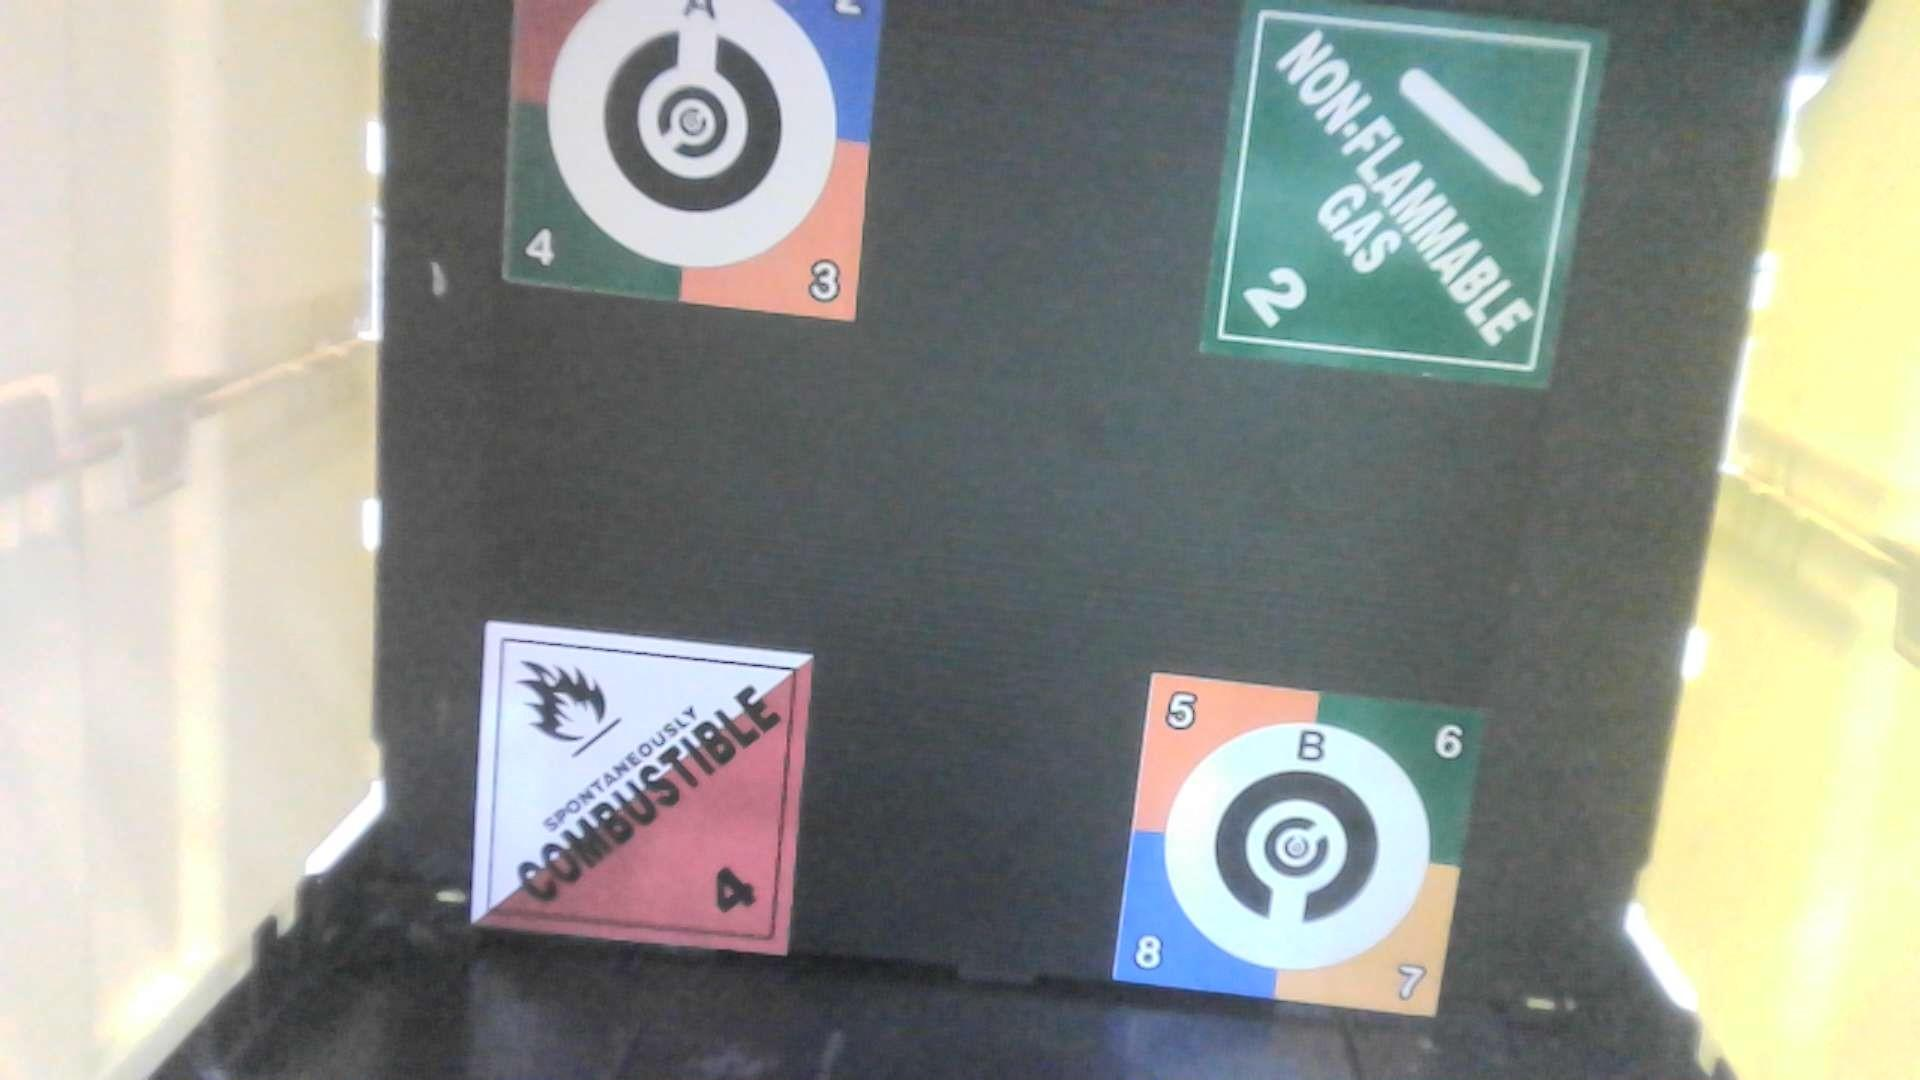non-flammable-gas: (1193, 3, 1615, 400)
spontaneously-combustible: (469, 609, 820, 975)
